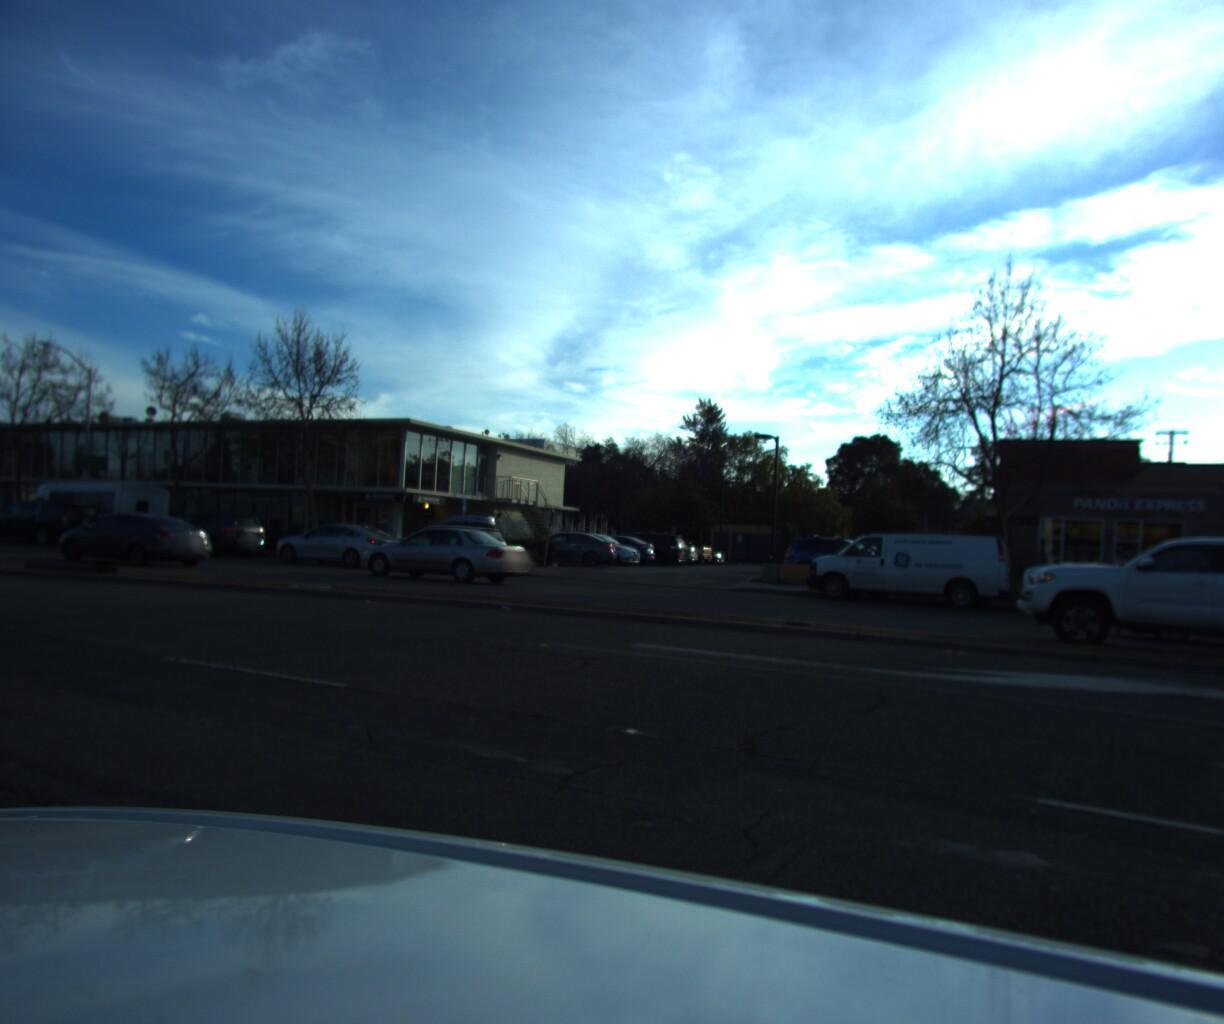bus: (12, 474, 174, 547)
car: (1009, 524, 1224, 688), (797, 521, 1018, 610), (36, 498, 226, 569), (351, 518, 535, 582), (375, 504, 515, 571), (263, 515, 422, 571), (775, 526, 918, 584), (137, 505, 273, 555), (0, 491, 109, 544), (515, 523, 617, 563)
